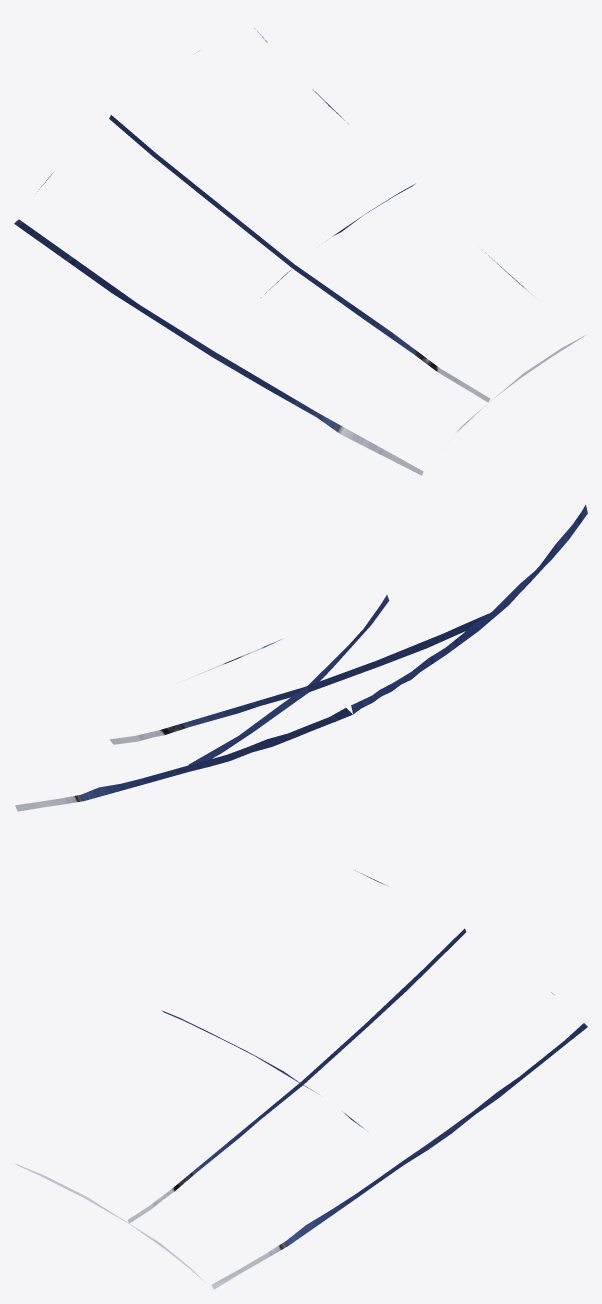
The picture shows the model from 3 angles, top to bottom: view 1: azimuth 30°, elevation 25°; view 2: azimuth 210°, elevation 25°; view 3: azimuth 270°, elevation 25°; orthographic projection. The views are drawn at different scales.
Bounding box in the file's own units: 1583415 × 620906 × 1565544.
1 material, 1 textured.
